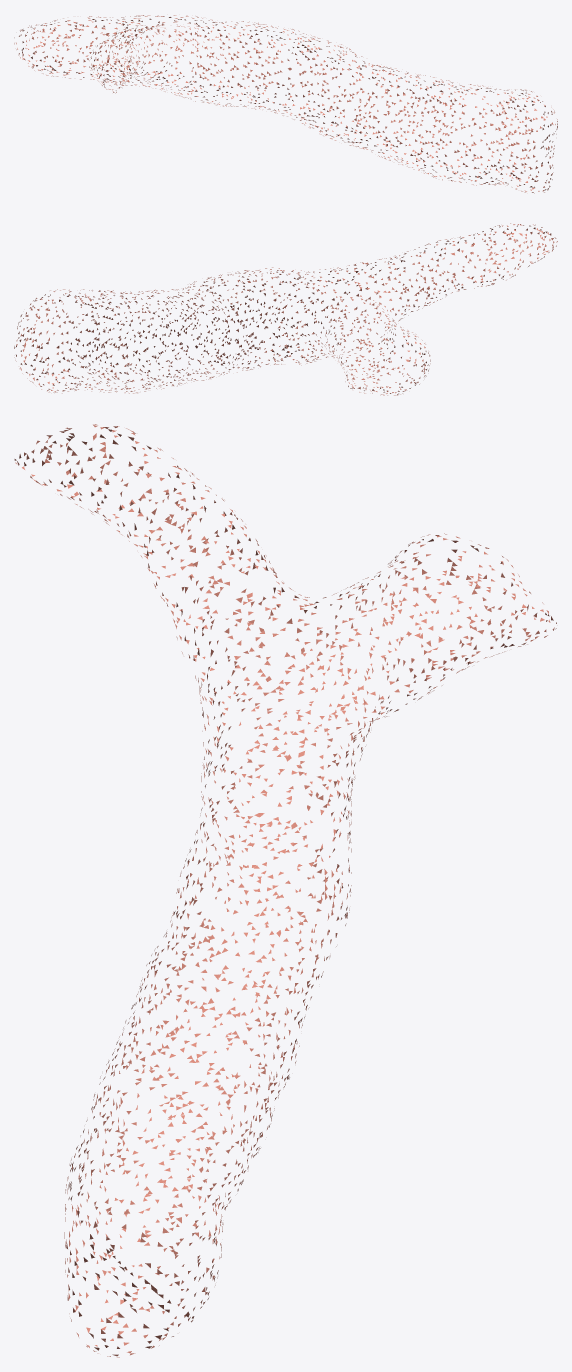
The model's file is morph_002.glb.
3 views of the same model, one above another, from view 1: azimuth 30°, elevation 25°; view 2: azimuth 150°, elevation 25°; view 3: azimuth 270°, elevation 25° (orthographic). The views are drawn at different scales.
Bounding box in the file's own units: 128 × 66.06 × 63.54.
